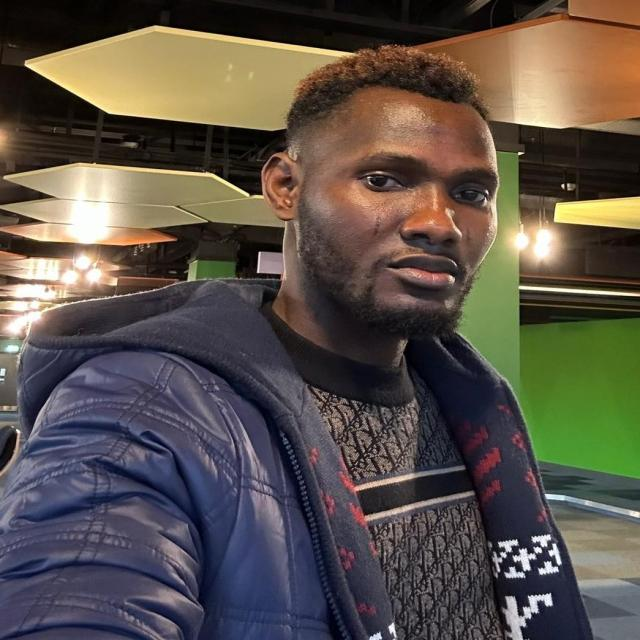sad: (256, 51, 502, 347)
